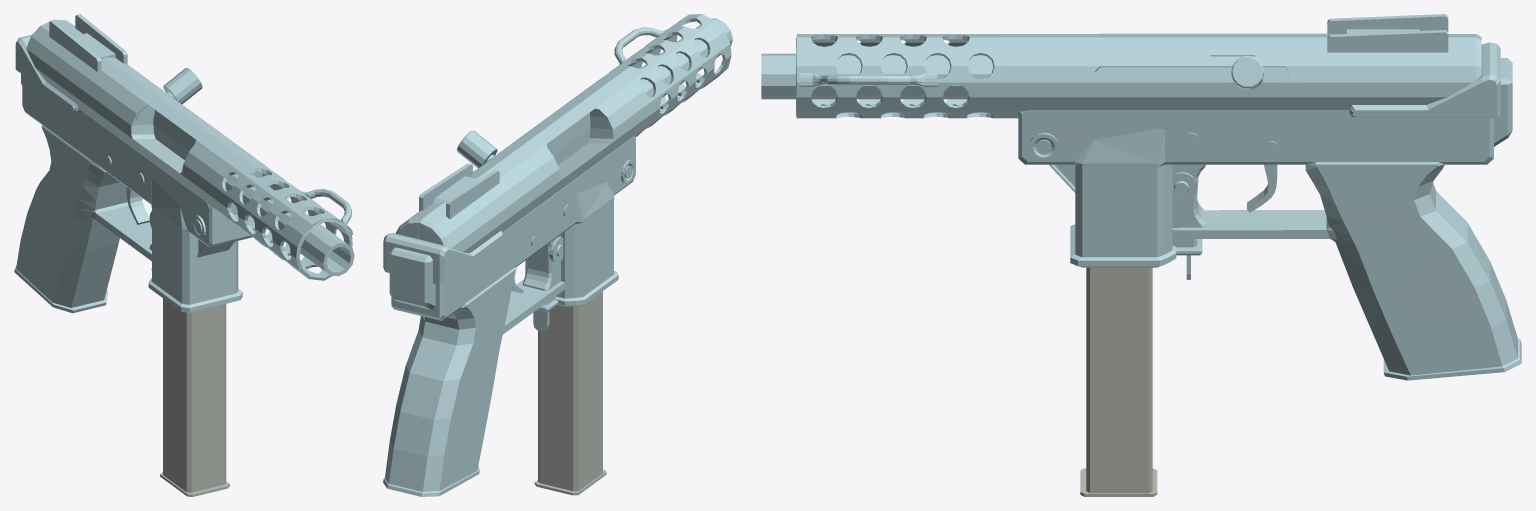
The model's file is tec9.fbx.
The picture shows the model from 3 angles, left to right: view 1: azimuth 30°, elevation 25°; view 2: azimuth 150°, elevation 25°; view 3: azimuth 270°, elevation 25°; orthographic projection. The views are drawn at different scales.
Visible parts, largest first — view 1: studio_tec9.smd; view 2: studio_tec9.smd; view 3: studio_tec9.smd.
Part boxes in pixels (<box>): studio_tec9.smd: <box>14,14,354,496</box>; studio_tec9.smd: <box>383,14,732,496</box>; studio_tec9.smd: <box>761,14,1521,496</box>.
Bounding box in the file's own units: 113 × 460 × 688.
